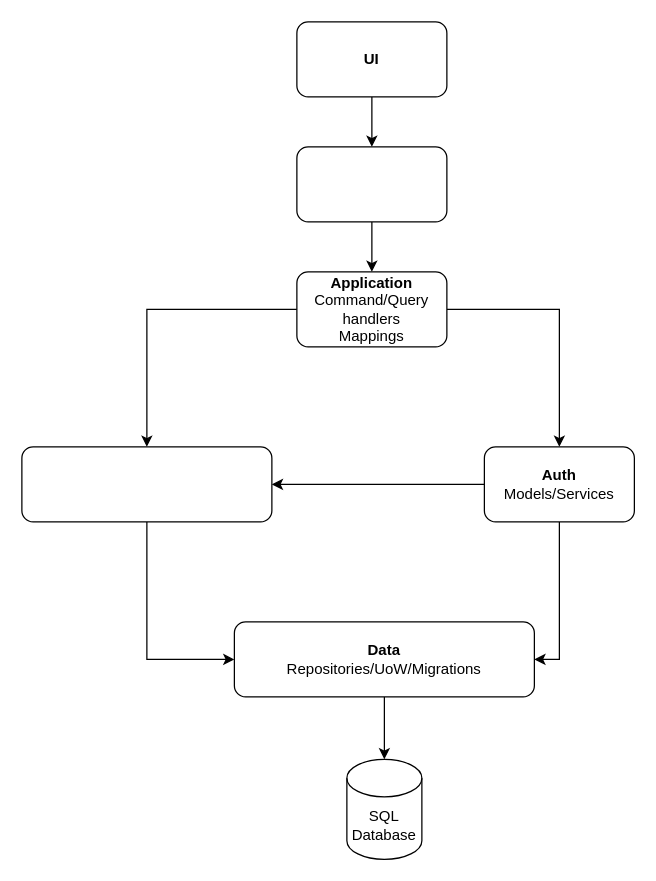
This 656x881 diagram has some shape labels left out. The box of each missing label's shape, as (x1, y1, x2, y2) in pixels:
API Controllers/Policies/...: (296, 146, 447, 222)
Core Business logic/Services/Models/Interfaces: (21, 446, 272, 522)
